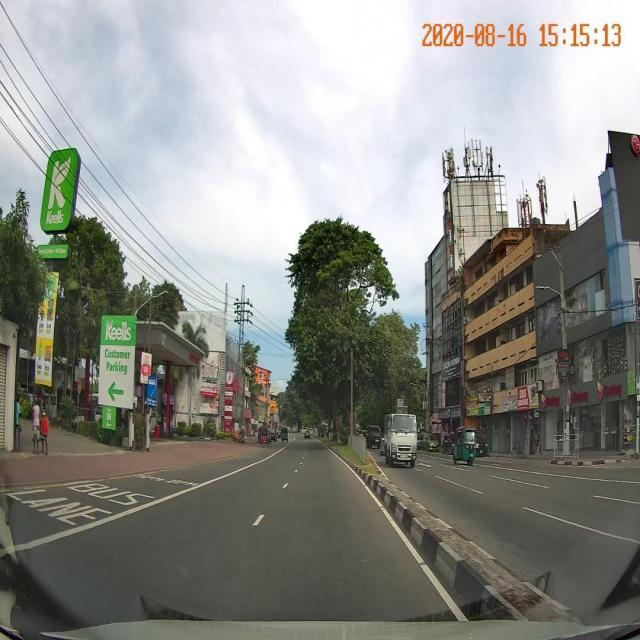BUS LANE: (0, 480, 164, 531)
Liniya 1: (13, 458, 267, 551), (339, 458, 472, 621), (521, 506, 640, 547), (435, 475, 486, 495), (487, 474, 550, 490), (592, 495, 639, 507), (248, 513, 266, 527), (282, 482, 290, 489)
